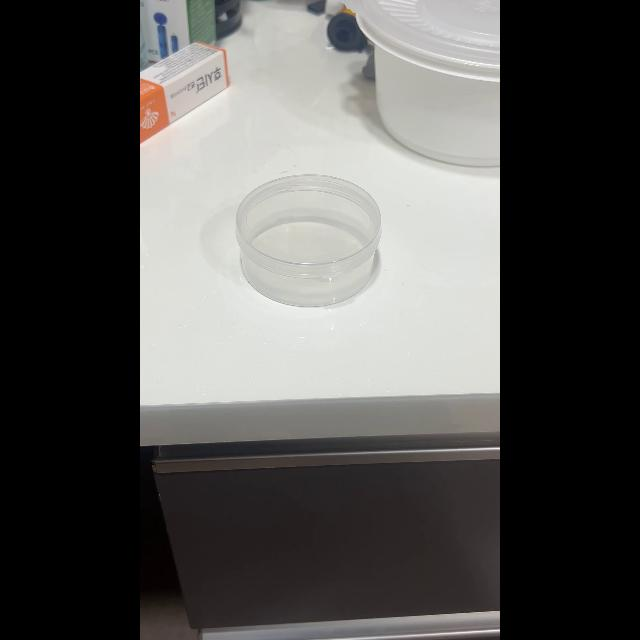clean: (232, 170, 376, 296)
